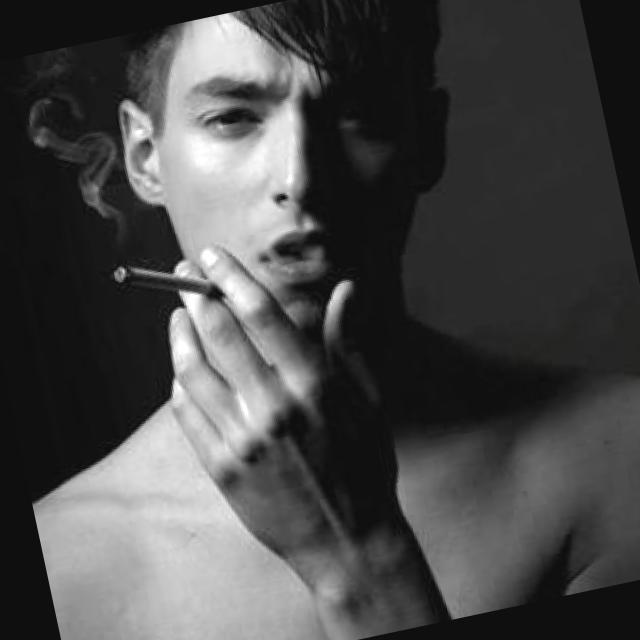smoke: (93, 228, 244, 328)
